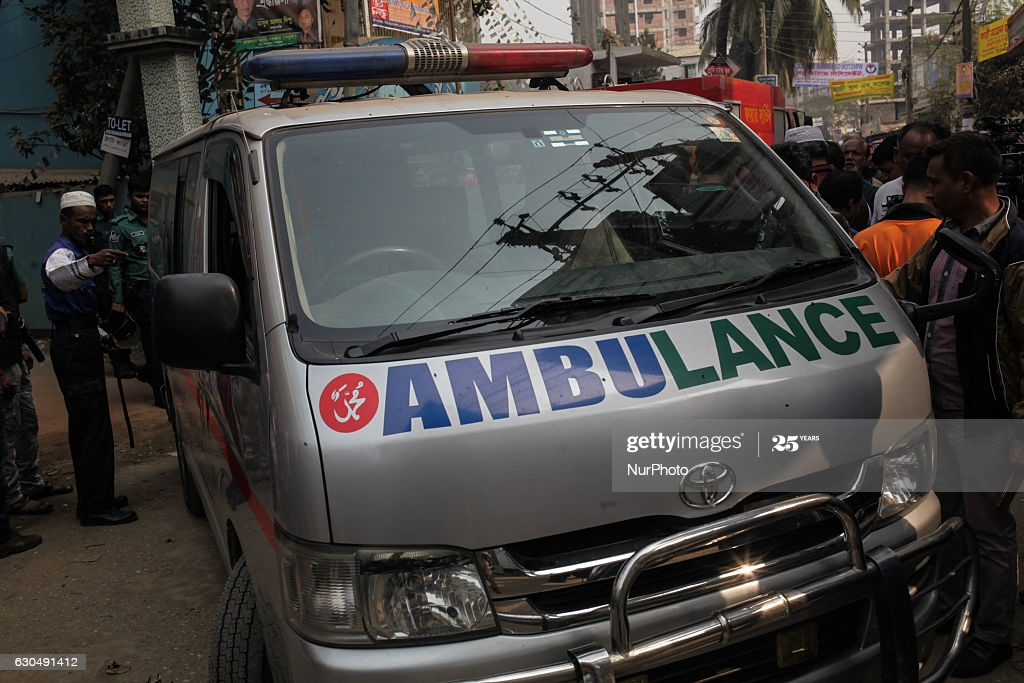ambulance: (140, 43, 982, 683)
